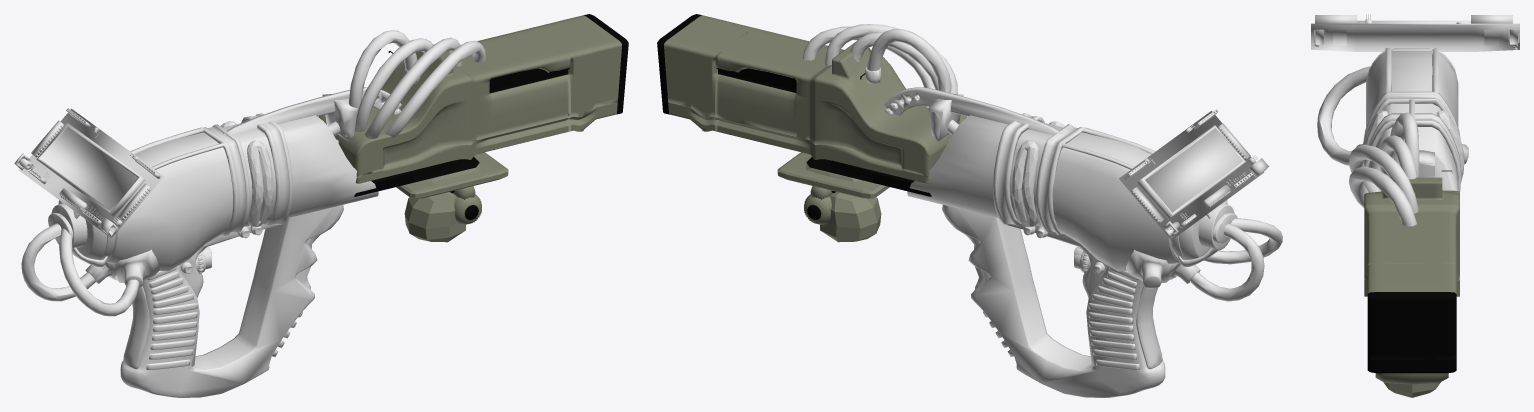
Rendered from CameraToolMesh.fbx.
3 renders of one model, left to right at view 1: azimuth 30°, elevation 25°; view 2: azimuth 150°, elevation 25°; view 3: azimuth 270°, elevation 25°, orthographic. The views are drawn at different scales.
Parts seen in each view (by area): view 1: Cube.002; view 2: Cube.002; view 3: Cube.002.
Boxes of the visible parts, x1,y1,x2,y2 form: Cube.002: (14, 14, 628, 397); Cube.002: (657, 14, 1282, 397); Cube.002: (1311, 14, 1519, 397).
Bounding box in the file's own units: 45.91 × 23.65 × 12.55.
